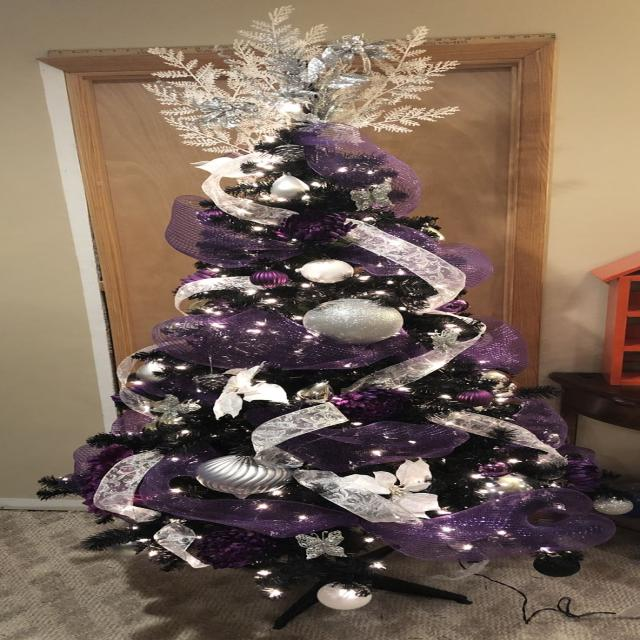Christmas-tree: (56, 0, 608, 624)
